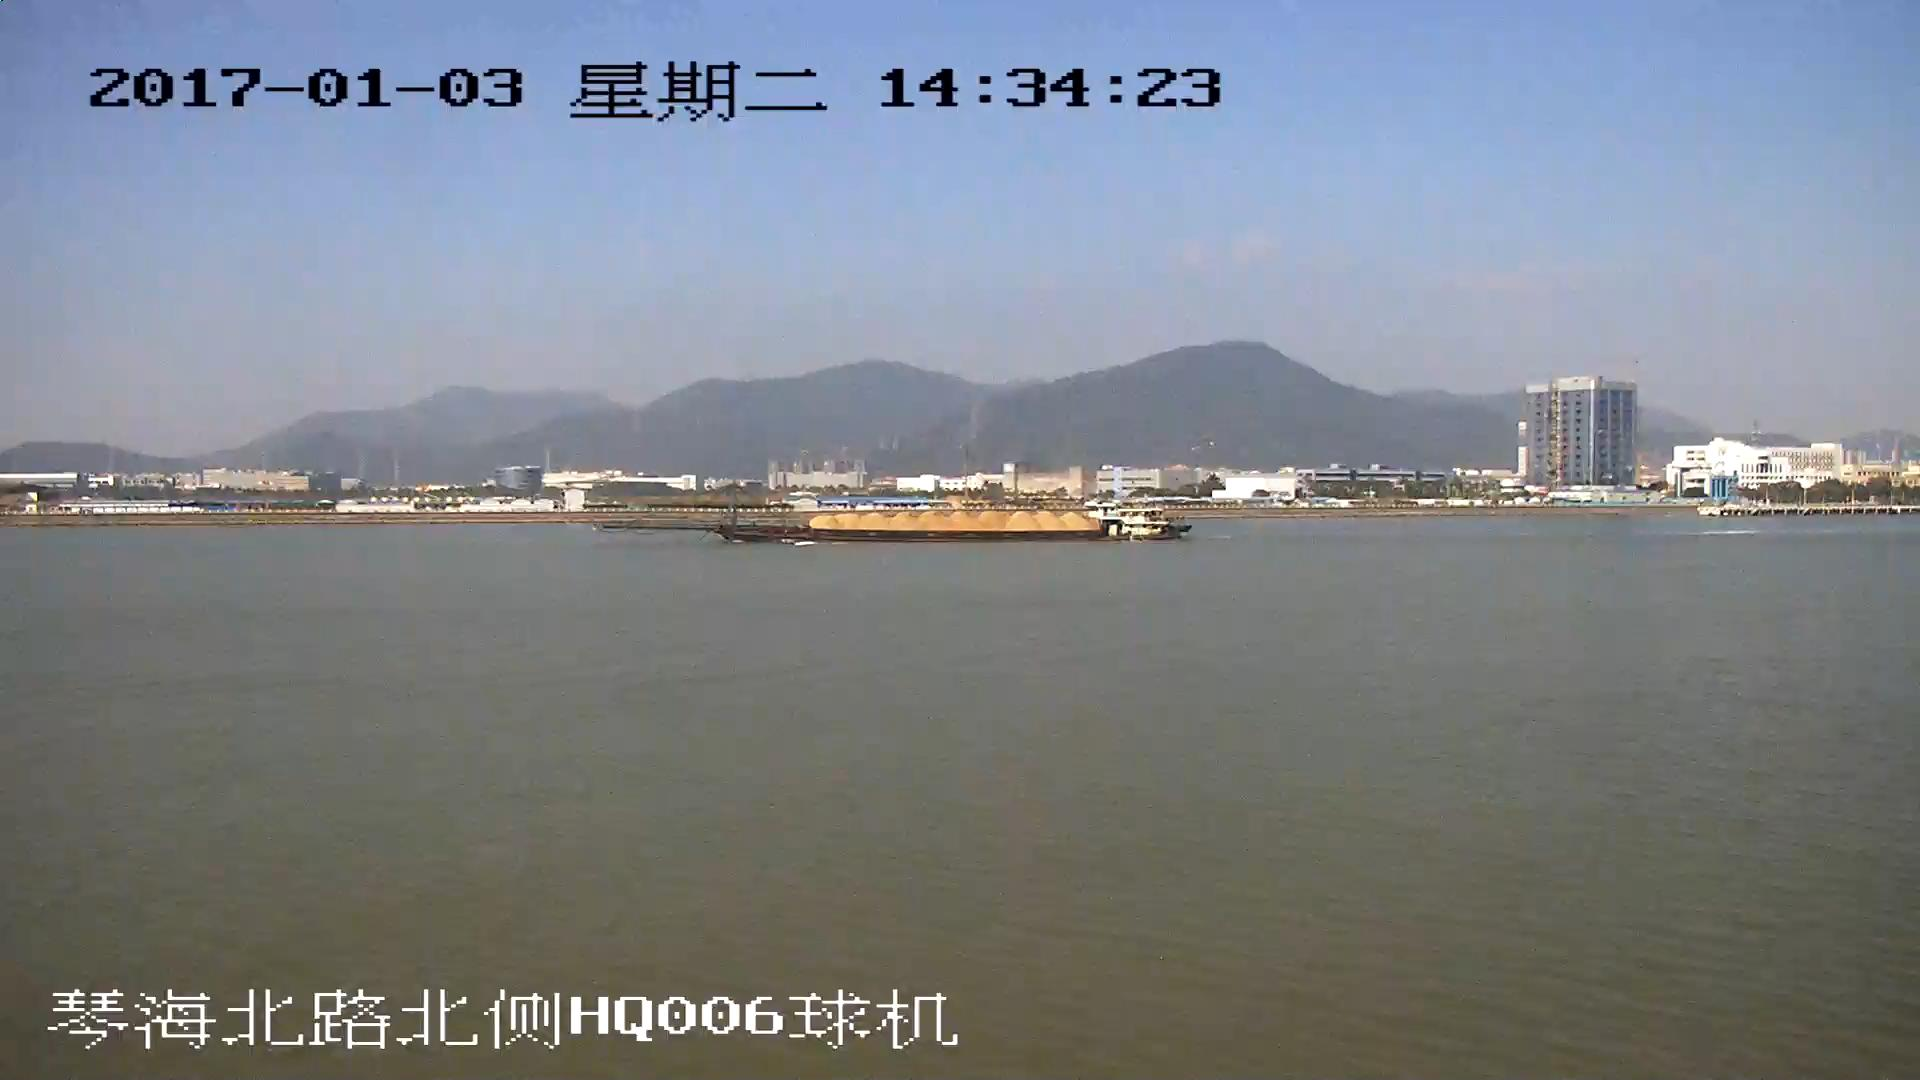ore carrier: (600, 494, 1194, 545)
